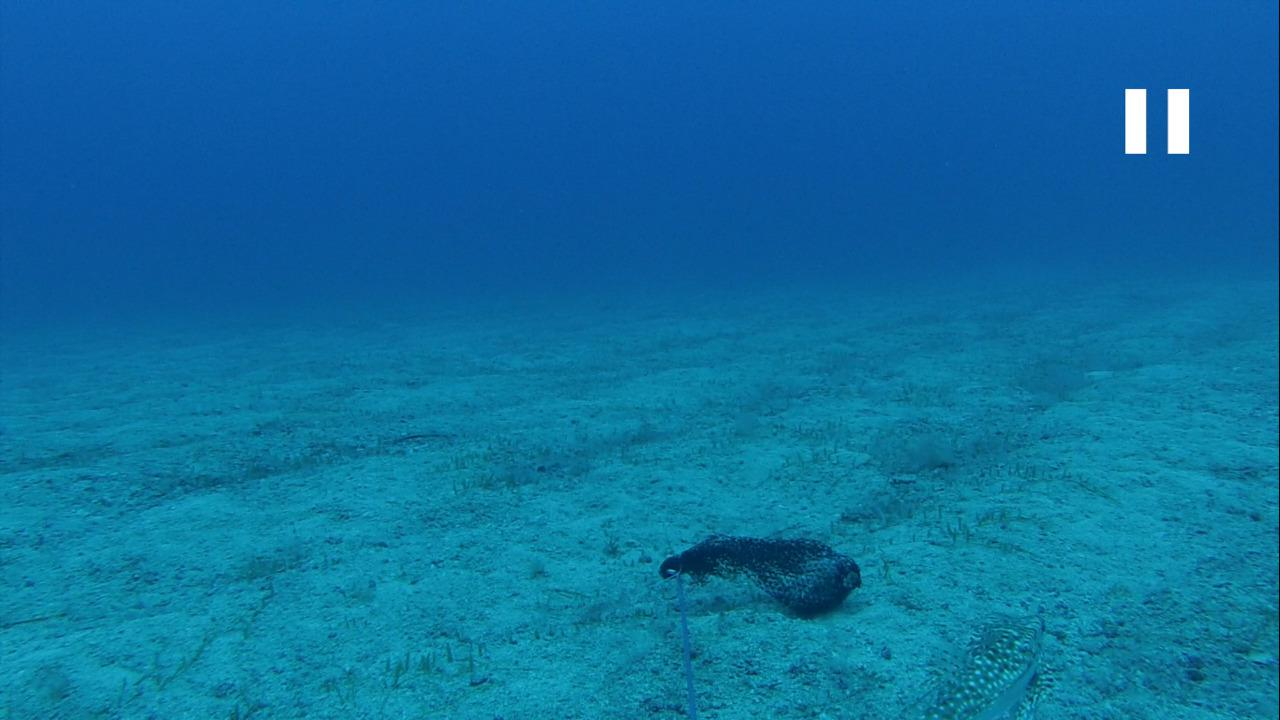dactylopterus: (886, 604, 1049, 719)
